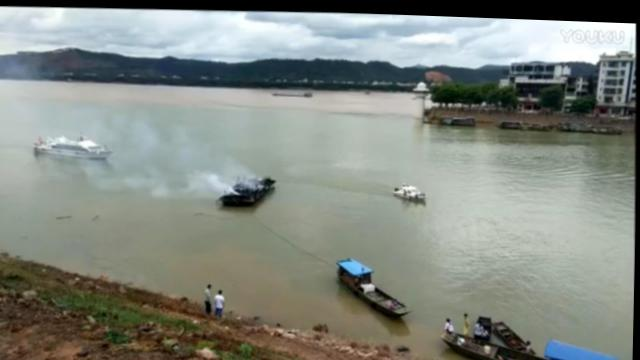smoke: (203, 167, 235, 195), (233, 159, 260, 187)
